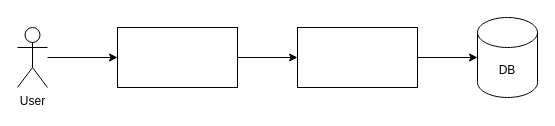
This 555x126 diagram has some shape labels left out. The centre of each missing label's shape, as x and y in pixels:
"Data Service" goes at pixel 357 57.
"Library Service" goes at pixel 177 57.
